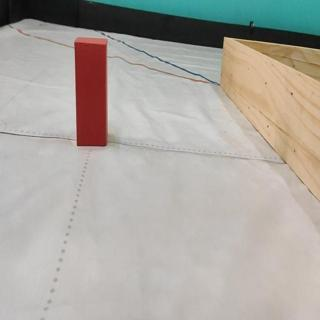redbox: (73, 33, 108, 146)
